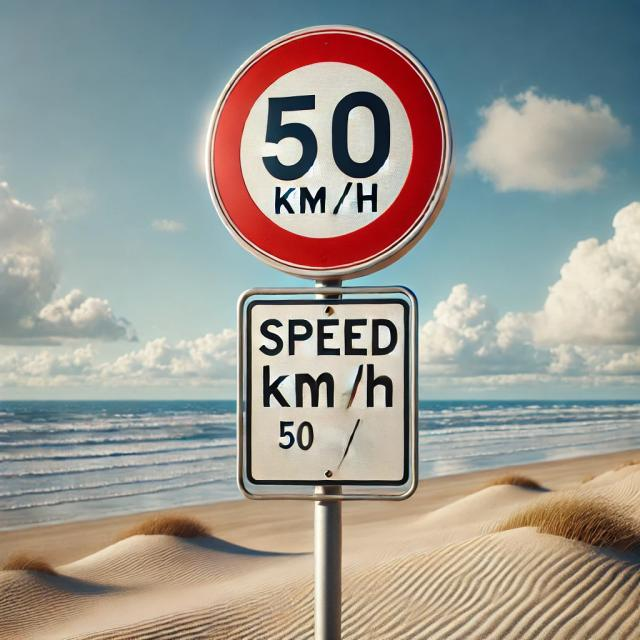Speed limit 50: (204, 24, 456, 282)
